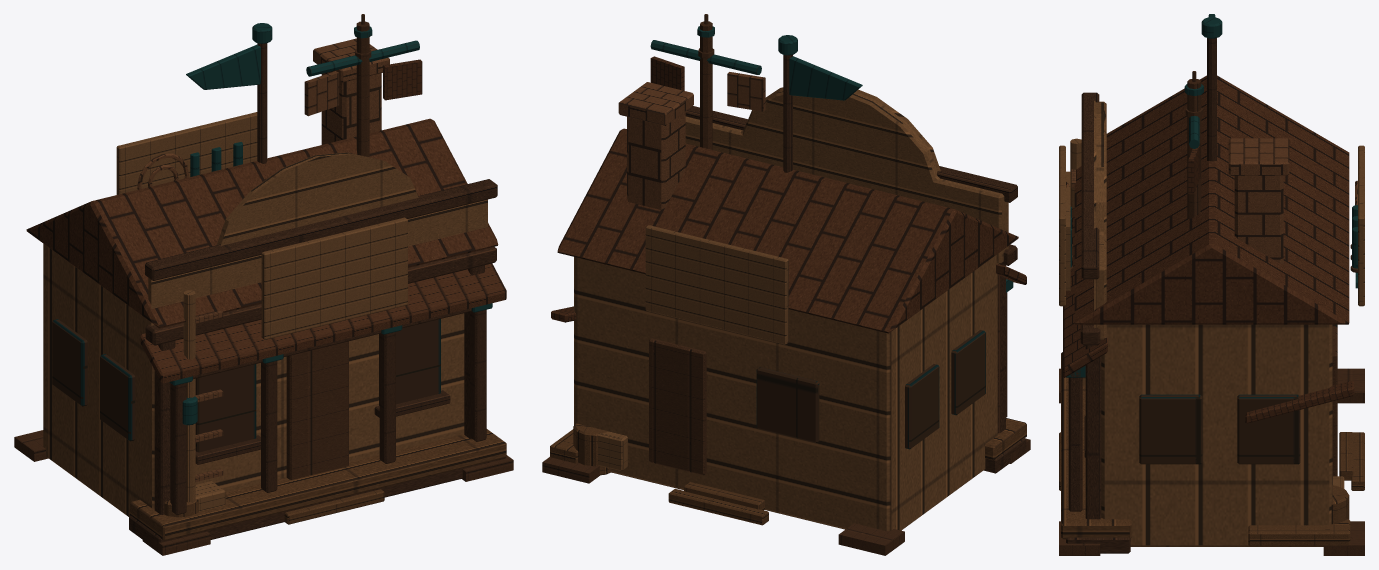
Rendered from claim-office.e7.glb.
3 views of the same model, side by side, from view 1: azimuth 30°, elevation 25°; view 2: azimuth 150°, elevation 25°; view 3: azimuth 270°, elevation 25° (orthographic). The views are drawn at different scales.
Parts seen in each view (by area): view 1: ClaimOfficeE7; view 2: ClaimOfficeE7; view 3: ClaimOfficeE7.
Boxes of the visible parts, x1=… form: ClaimOfficeE7: x1=14, y1=14, x2=513, y2=555; ClaimOfficeE7: x1=542, y1=14, x2=1030, y2=555; ClaimOfficeE7: x1=1059, y1=14, x2=1364, y2=555.
Bounding box in the file's own units: 4.26 × 5.02 × 3.12.
1 material, 1 textured.
